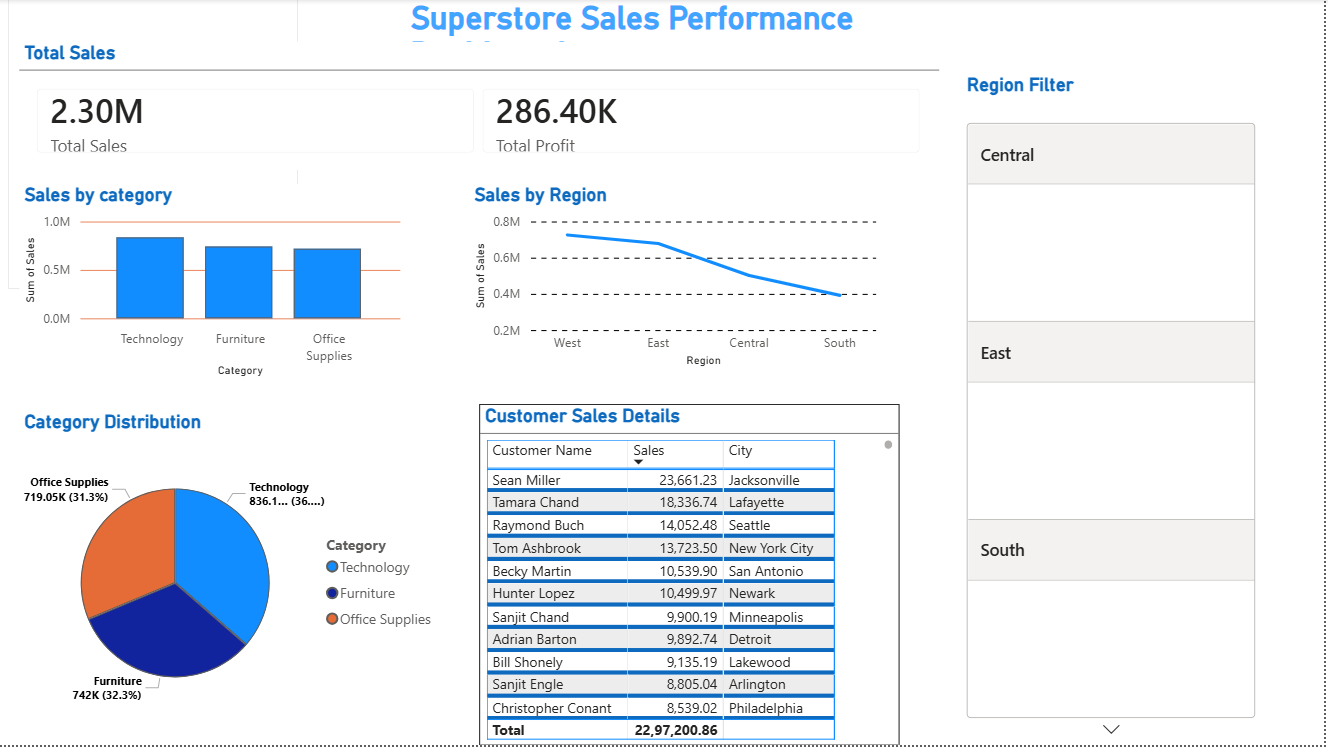

Layout of this report page (visuals, bound fields, positions):
{"tool":"powerbi","page":{"name":"Page 1","canvas":[1280,720],"ordinal":0},"visuals":[{"type":"textbox","box":[10,0,280,280],"z":0},{"type":"textbox","box":[10,290,280,280],"z":1000},{"type":"columnChart","title":"Sales by category","fields":{"Category":["superstore_clean.Category"],"Y":["Sum(superstore_clean.Sales)"]},"box":[20.5,178.6,372.8,190.6],"z":2000},{"type":"lineChart","title":"Sales by Region","fields":{"Category":["superstore_clean.Region"],"Y":["Sum(superstore_clean.Sales)"]},"box":[454.8,178.6,398.1,181],"z":3000},{"type":"tableEx","title":"Customer Sales Details","fields":{"Values":["superstore_clean.Customer Name","Sum(superstore_clean.Sales)","superstore_clean.City"]},"box":[464.5,390.9,405.4,329.4],"z":4000},{"type":"pieChart","title":"Category Distribution","fields":{"Category":["superstore_clean.Category"],"Y":["Sum(superstore_clean.Sales)"]},"box":[20.5,396.9,411.4,311.3],"z":5000},{"type":"cardVisual","title":"Total Sales","fields":{"Data":["Sum(superstore_clean.Sales)","Sum(superstore_clean.Profit)"]},"box":[20.5,41,887.9,124.3],"z":6000},{"type":"cardVisual","title":"Region Filter","fields":{"Rows":["superstore_clean.Region"]},"box":[930.2,72.4,288.3,647.9],"z":7000},{"type":"textbox","title":"Superstore Sales Performance Dashboard","box":[393.3,0,643,41],"z":8000}]}

Visuals, with their boxes in screenshot pixels (x1, y1, x2, y2), scaled from the page's 1280x720 canvas onto the 1328x748 screenshot:
textbox: locate(10, 0, 301, 291)
textbox: locate(10, 301, 301, 592)
"Sales by category" columnChart: locate(21, 186, 408, 384)
"Sales by Region" lineChart: locate(472, 186, 885, 374)
"Customer Sales Details" tableEx: locate(482, 406, 903, 747)
"Category Distribution" pieChart: locate(21, 412, 448, 736)
"Total Sales" cardVisual: locate(21, 43, 942, 172)
"Region Filter" cardVisual: locate(965, 75, 1264, 747)
"Superstore Sales Performance Dashboard" textbox: locate(408, 0, 1075, 43)
